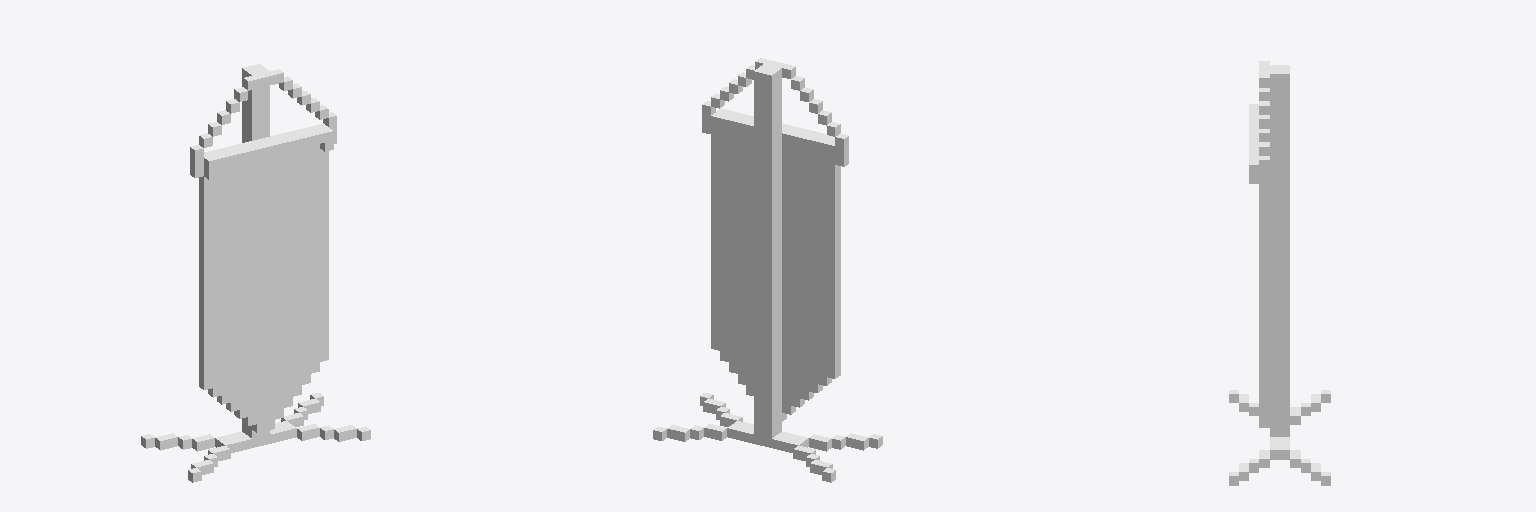
The model's file is Banner.obj.
3 views of the same model, side by side, from view 1: azimuth 30°, elevation 25°; view 2: azimuth 150°, elevation 25°; view 3: azimuth 270°, elevation 25° (orthographic).
Parts seen in each view (by area): view 1: object 1; view 2: object 1; view 3: object 1.
Boxes of the visible parts, box(x1,y1,x2,y2) form: object 1: box(141, 64, 370, 482); object 1: box(653, 58, 882, 482); object 1: box(1229, 61, 1330, 485).
Bounding box in the file's own units: 2 × 4 × 1.